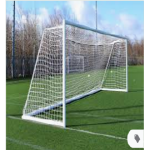goals: (21, 18, 130, 127)
